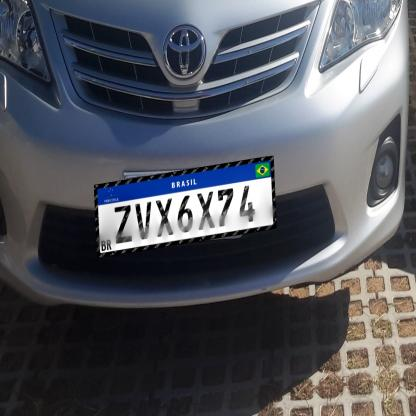PlacaM: (94, 156, 277, 258)
